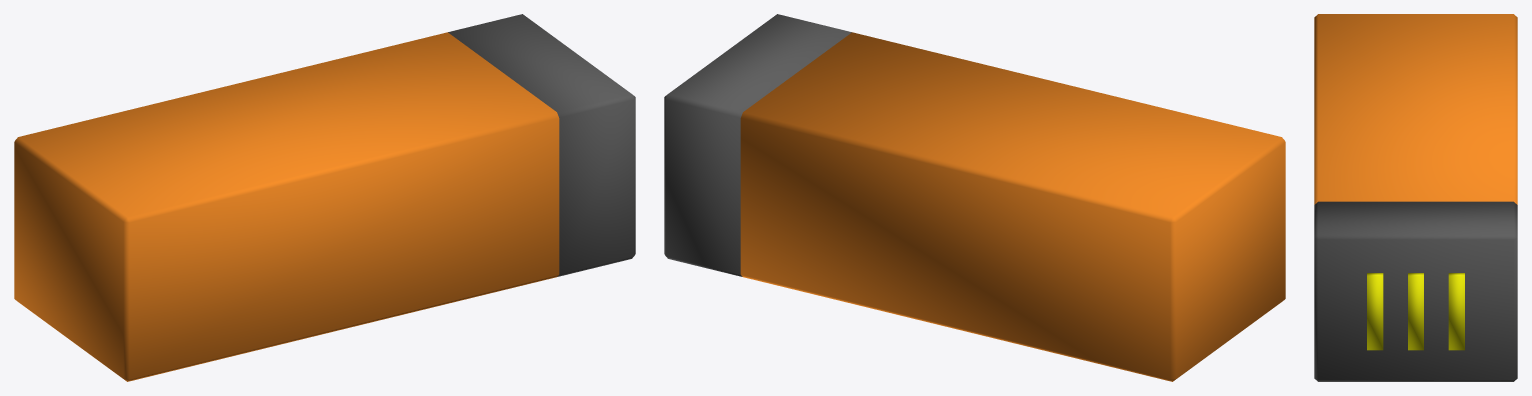
The model's file is battery_orange.dae.
3 views of the same model, side by side, from view 1: azimuth 30°, elevation 25°; view 2: azimuth 150°, elevation 25°; view 3: azimuth 270°, elevation 25° (orthographic). The views are drawn at different scales.
Visible parts, largest first — view 1: battery_base; view 2: battery_base; view 3: battery_base.
Part boxes in pixels (<box>): battery_base: <box>14,14,635,381</box>; battery_base: <box>664,14,1285,381</box>; battery_base: <box>1314,14,1517,381</box>.
Bounding box in the file's own units: 0.132 × 0.05 × 0.04.
